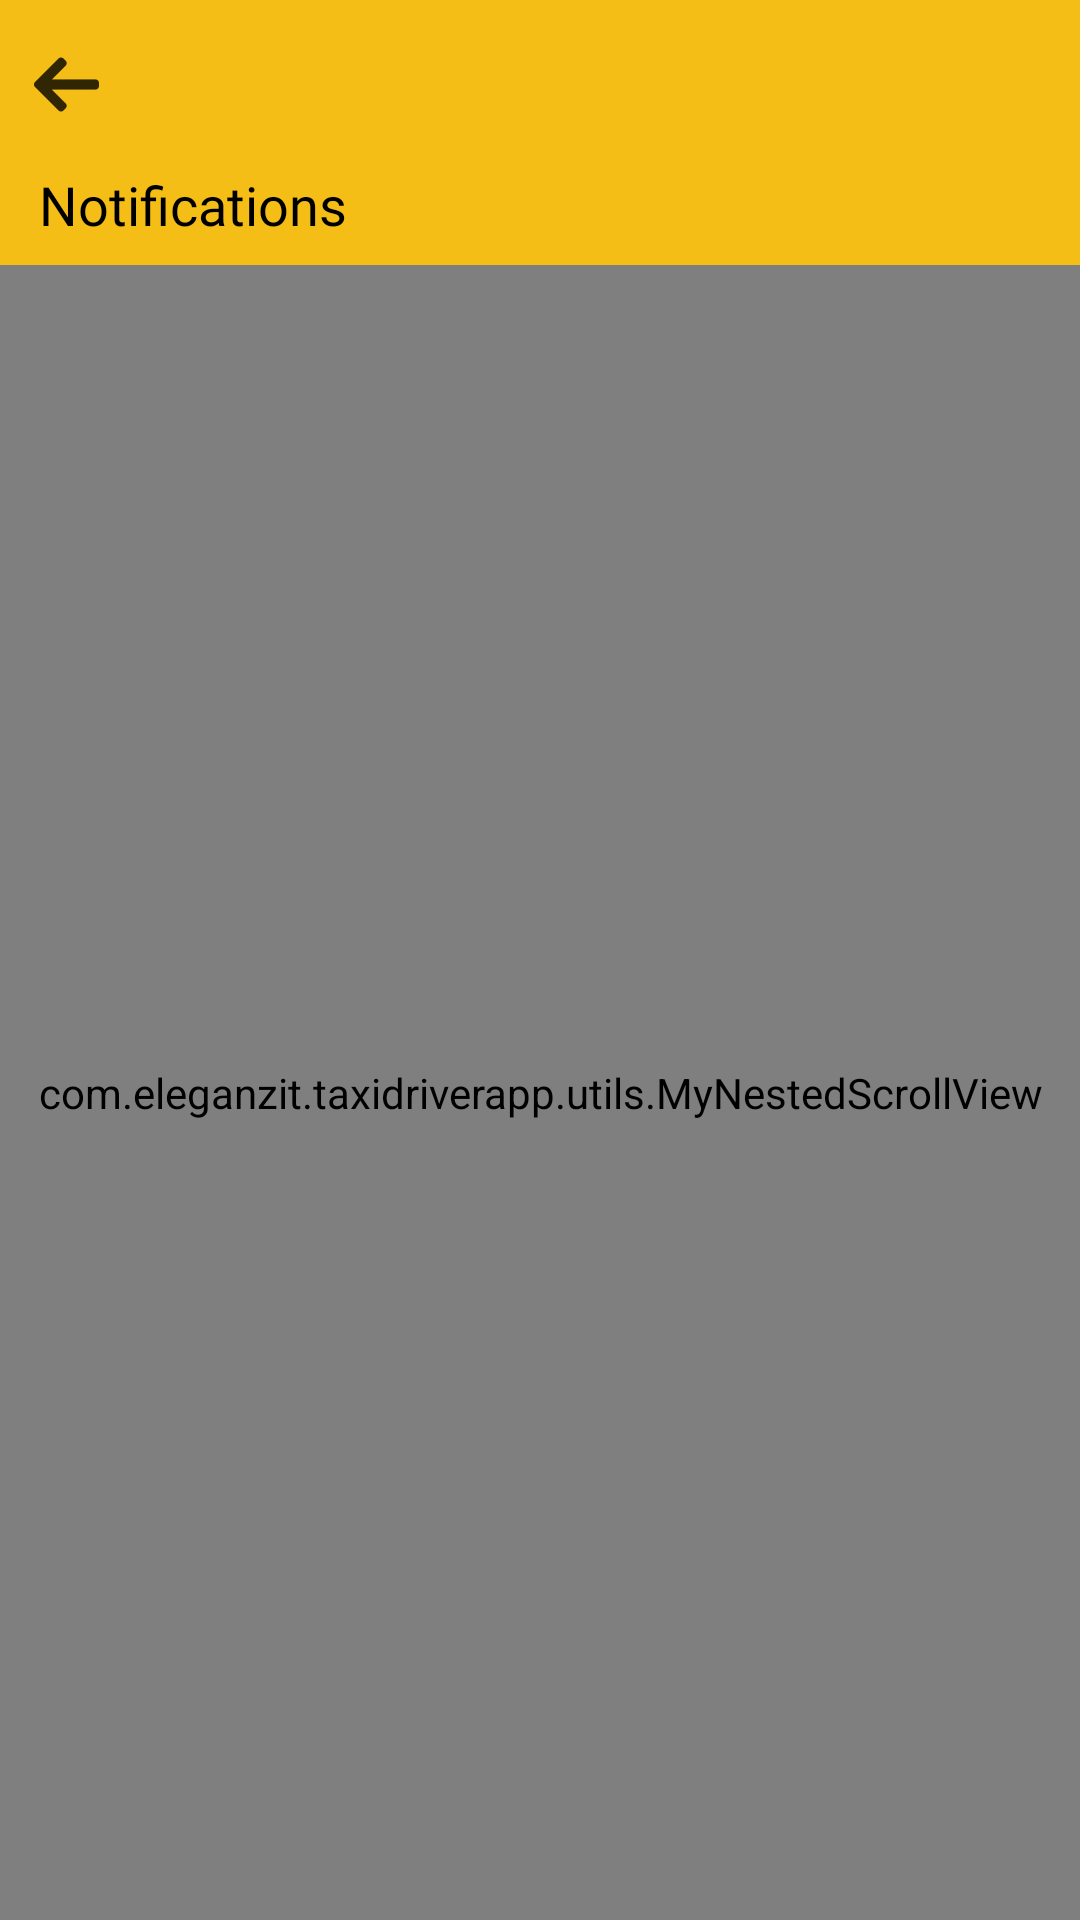

Icon bounding boxes for this 1080px×1920px phone screenshot, format (x1, y1, x2, y2):
back: (34, 57, 99, 112)
